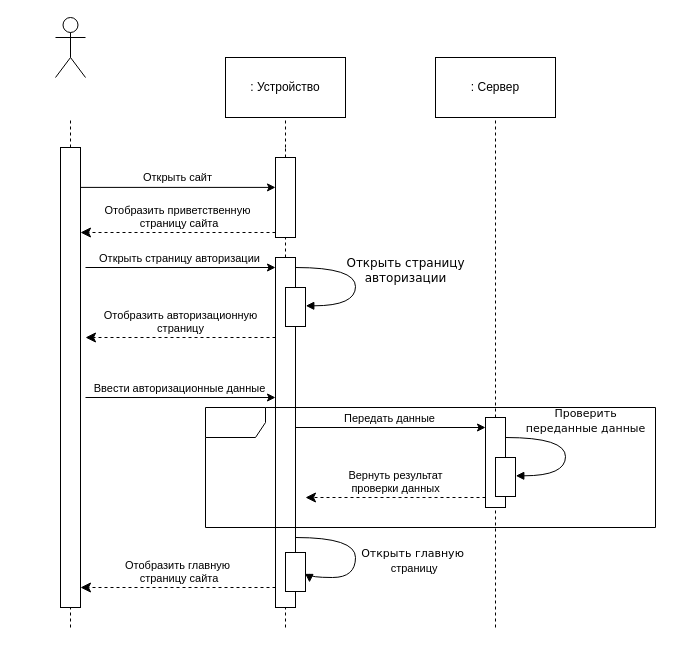
This 673x646 diagram has some shape labels left out. Here are the shapes that lost their labels. From the top down, the centre of each, then its label:
At (70,47): "Неавторизованный пользователь".
At (430,467): "loop".
